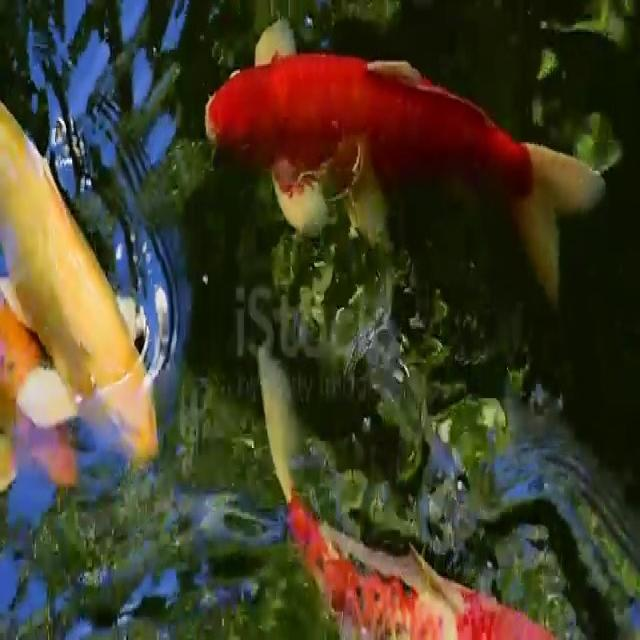fish: (198, 0, 605, 308), (254, 344, 567, 640), (0, 98, 203, 480), (0, 306, 102, 504)
